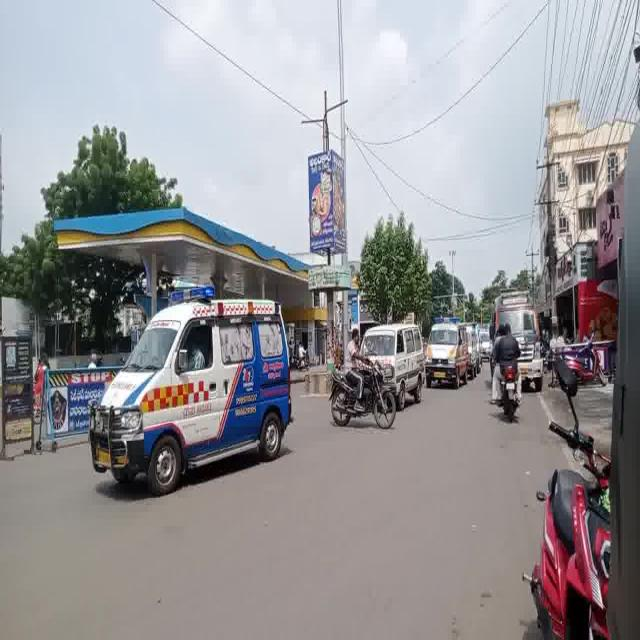ambulance: (87, 273, 293, 505), (428, 319, 469, 399), (488, 284, 547, 324), (478, 304, 488, 408)
